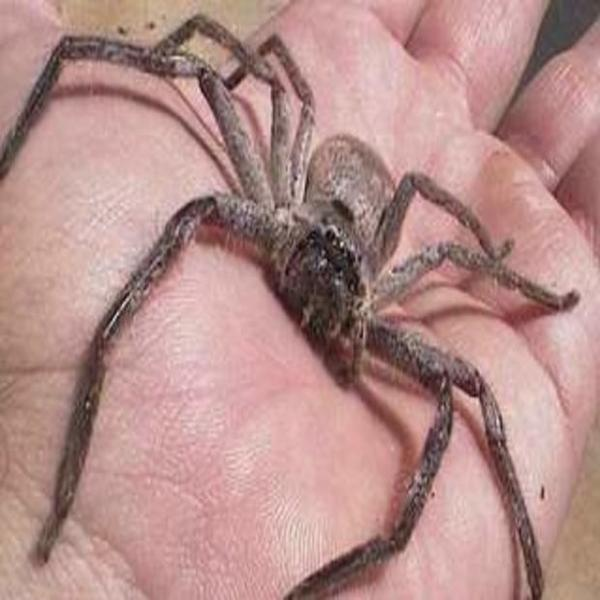Huntsman Spider: (22, 12, 580, 590)
